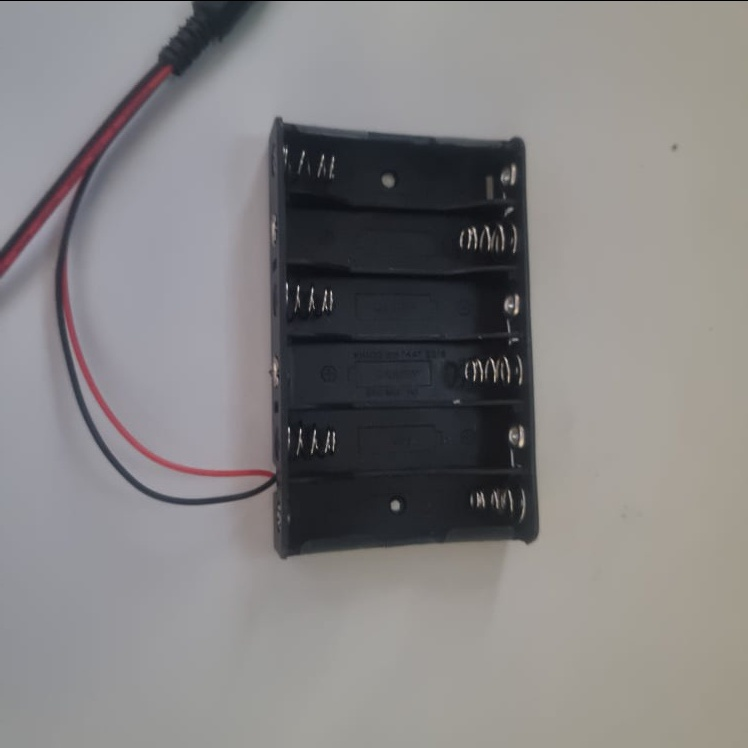BATTERY BOX: (264, 115, 541, 561)
